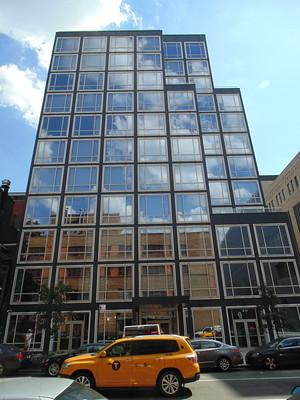building: (4, 25, 276, 388)
